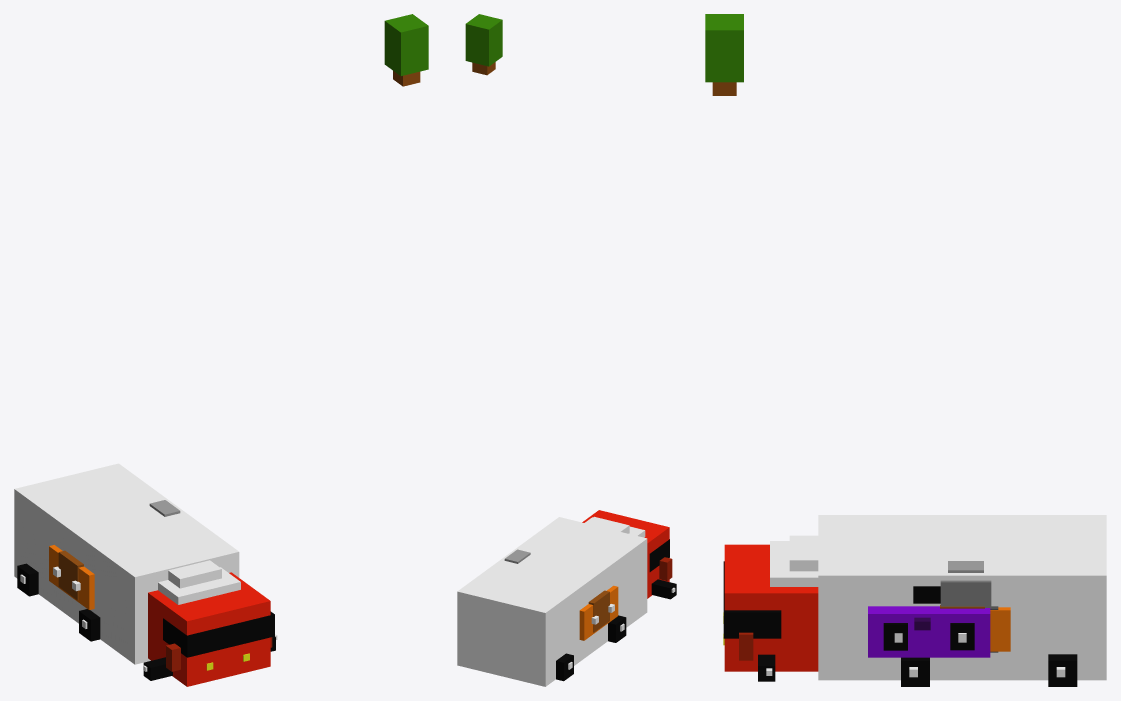
Rendered from GameObject.fbx.
3 renders of one model, left to right at view 1: azimuth 30°, elevation 25°; view 2: azimuth 150°, elevation 25°; view 3: azimuth 270°, elevation 25°, orthographic. The views are drawn at different scales.
Visible parts, largest first — view 1: body_2, front, window, Cube, top_big, top_small, body, middle_striped; view 2: body_2, Cube, front, body, middle_striped, mid_wheel, front_wheel_2, back_wheel_2, top_small, window; view 3: body_2, front, body_1, Cube, window, upper, top_big, top_small, body, back_wheel_2, mid_wheel, front_wheel_1 (+1 smaller).
Part boxes in pixels (bbox=[...]): body_2: bbox=[14, 463, 239, 664]; front: bbox=[148, 572, 270, 686]; window: bbox=[163, 611, 274, 657]; Cube: bbox=[384, 14, 428, 75]; top_big: bbox=[158, 567, 240, 604]; top_small: bbox=[168, 560, 221, 588]; body: bbox=[49, 545, 94, 609]; middle_striped: bbox=[58, 550, 83, 600]; body_2: bbox=[457, 517, 647, 686]; Cube: bbox=[465, 14, 502, 66]; front: bbox=[582, 510, 669, 598]; body: bbox=[579, 585, 618, 640]; middle_striped: bbox=[588, 590, 609, 632]; mid_wheel: bbox=[608, 615, 626, 642]; front_wheel_2: bbox=[651, 579, 676, 599]; back_wheel_2: bbox=[556, 653, 573, 681]; top_small: bbox=[585, 516, 629, 533]; window: bbox=[649, 539, 669, 571]; body_2: bbox=[818, 515, 1106, 680]; front: bbox=[724, 544, 818, 671]; body_1: bbox=[868, 606, 990, 657]; Cube: bbox=[705, 14, 743, 82]; window: bbox=[723, 561, 781, 638]; upper: bbox=[940, 580, 991, 607]; top_big: bbox=[770, 541, 818, 586]; top_small: bbox=[789, 535, 818, 571]; body: bbox=[990, 607, 1010, 651]; back_wheel_2: bbox=[1048, 654, 1077, 686]; mid_wheel: bbox=[901, 657, 929, 686]; front_wheel_1: bbox=[883, 623, 907, 650].
Size of the model in its own units: 740 by 1683 by 835.
